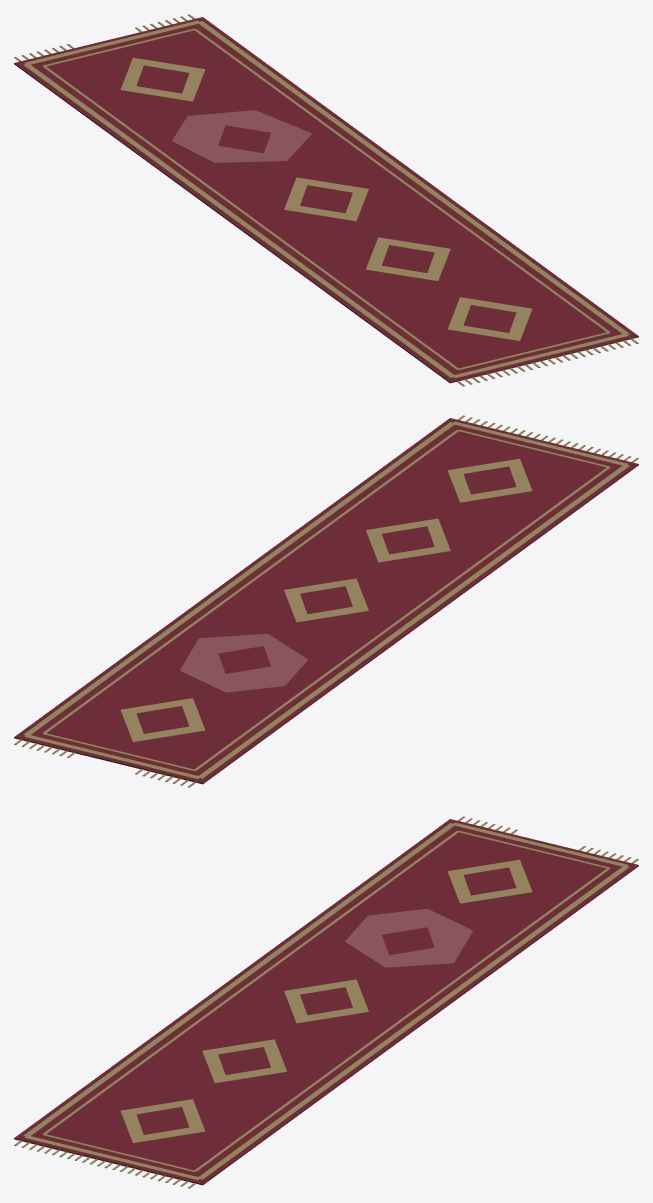
File: rug_runner.glb
The picture shows the model from 3 angles, top to bottom: view 1: azimuth 30°, elevation 25°; view 2: azimuth 150°, elevation 25°; view 3: azimuth 330°, elevation 25°; orthographic projection.
Visible parts, largest first — view 1: RugRunner; view 2: RugRunner; view 3: RugRunner.
Part boxes in pixels (x1,y1,x2,y2): RugRunner: (14,14,638,386); RugRunner: (14,415,638,787); RugRunner: (14,816,638,1188).
Size of the model in its own units: 2 by 0.017 by 8.24.
